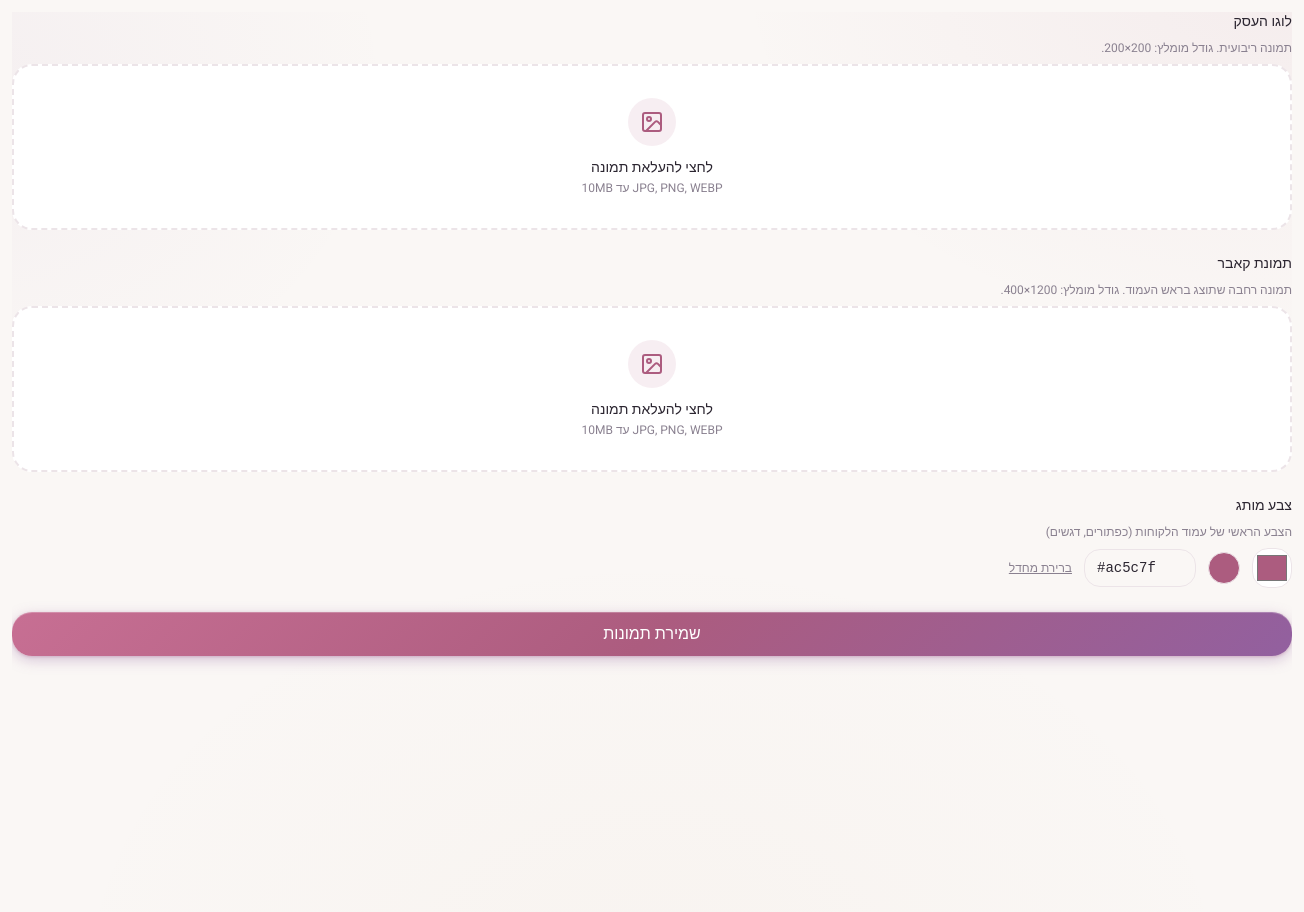
Scenario: BrandingForm — brand colour controls › edits the colour via the text input and resets to default
Replace the text in the field with "#000000". click: (1140,568)
box: [1084, 549, 1196, 587]
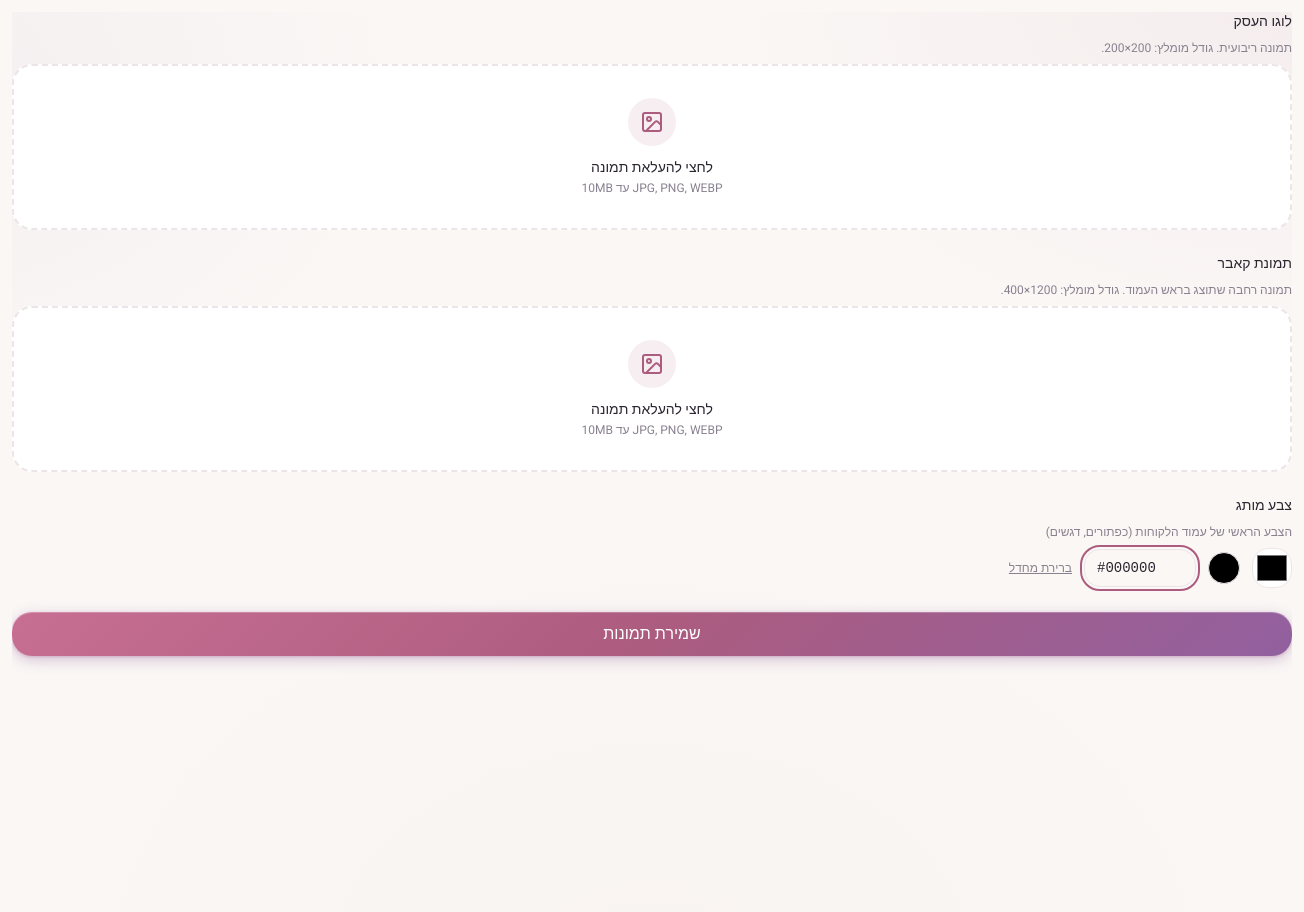
Now the colour field with id "brandColor" holds "#000000", box [1252, 548, 1292, 588]
Click the button "ברירת מחדל". click: (1040,568)
box: [1009, 560, 1072, 576]
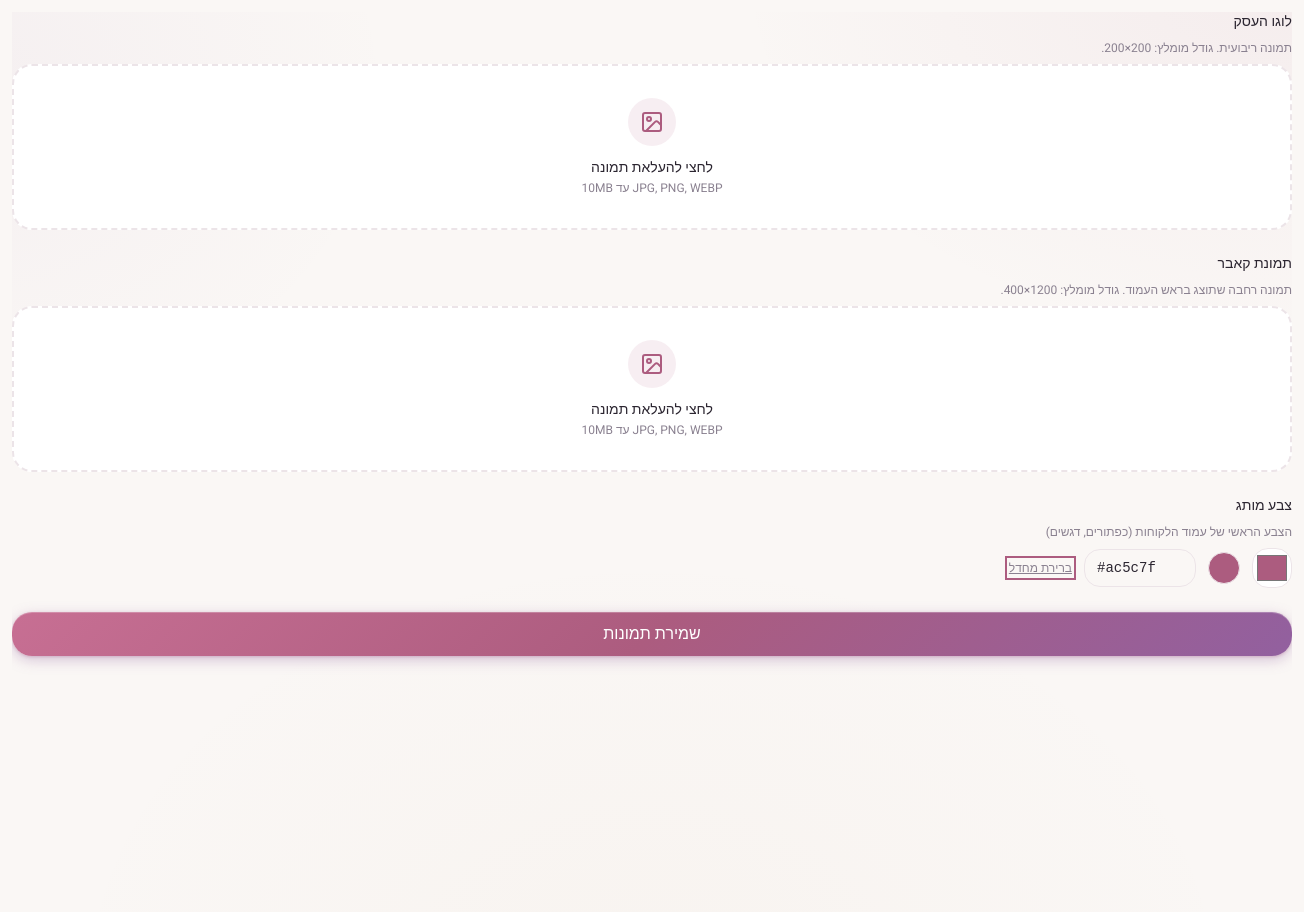
Now the colour field with id "brandColor" holds "#ac5c7f", box [1252, 548, 1292, 588]
